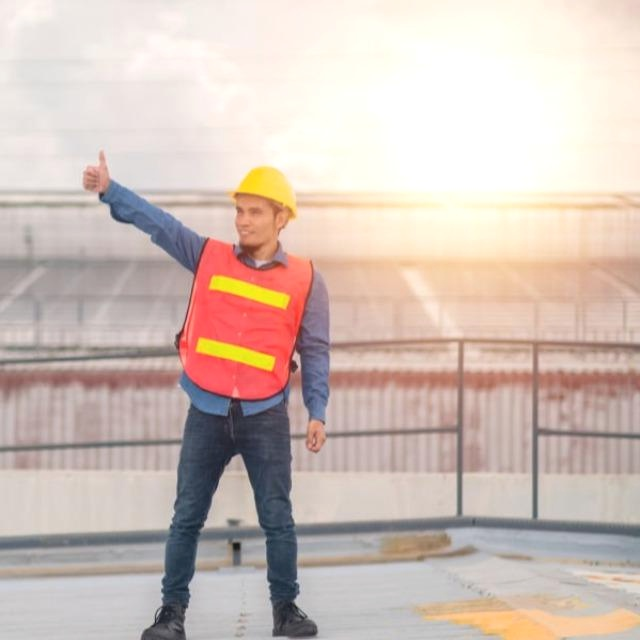Con_Casco: (226, 162, 298, 248)
Con_Chaleco: (183, 239, 317, 398)
